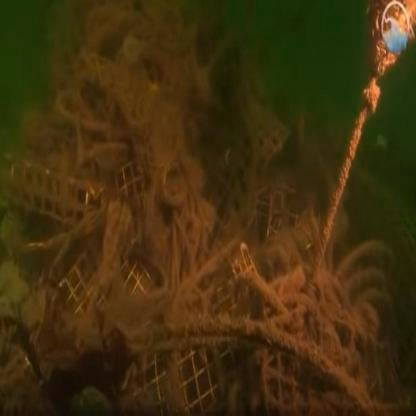net: (57, 83, 339, 416)
